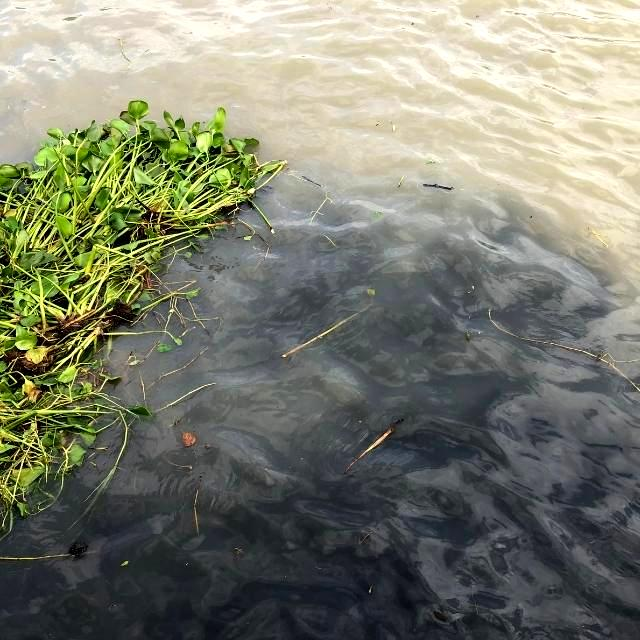water-hyacinth: (1, 88, 286, 540)
